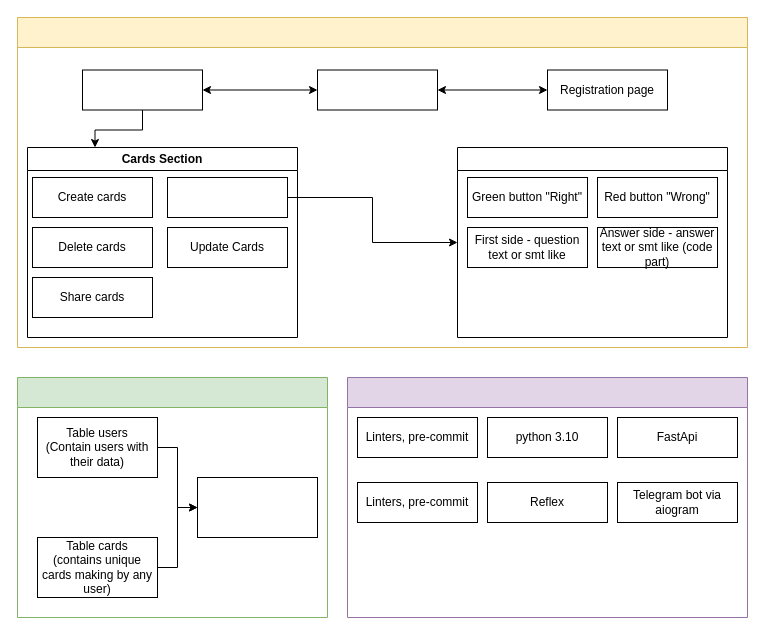
Image size: 765x635. Some labels were removed from this diagram. Each missing label, with the box of its shape:
Backend Python: (346, 376, 748, 618)
Learn cards: (166, 176, 288, 218)
Learn cards Section: (456, 146, 728, 338)
Login page: (316, 69, 438, 110)
Main page: (82, 69, 202, 110)
PostgreSQL (version control via alembic): (16, 376, 328, 618)
Table user_cards (which users can have access to which cards): (196, 476, 318, 538)
UI (React from Reflex via Python): (16, 16, 748, 348)
